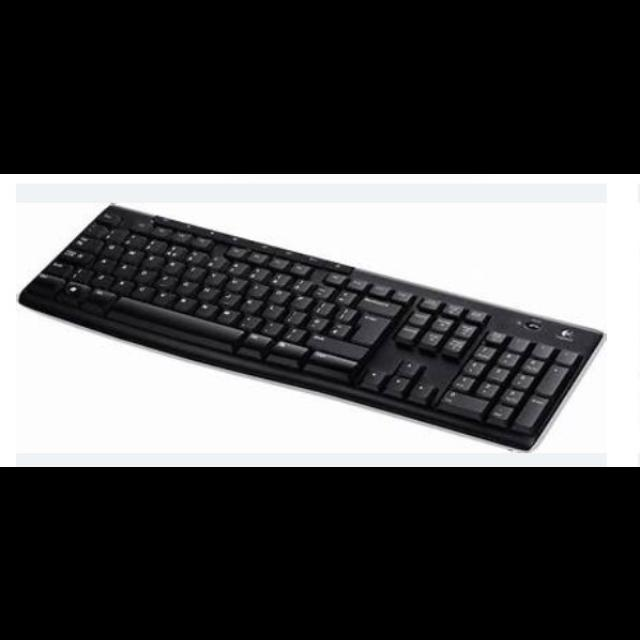Computer-Keyboard: (16, 203, 604, 451)
